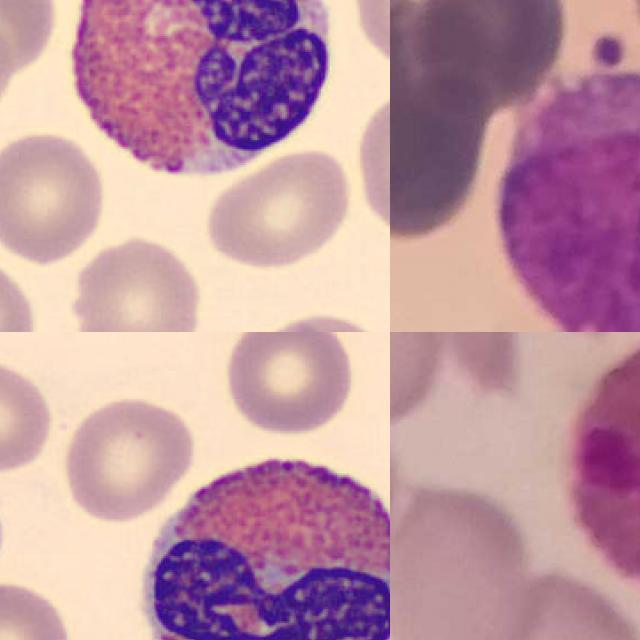Eosinophil: (50, 0, 351, 198), (123, 439, 390, 640), (567, 332, 640, 608)
Lymphocyte: (493, 71, 640, 332)
RBC: (200, 144, 357, 272), (58, 392, 200, 524), (0, 127, 107, 267), (221, 332, 358, 437), (63, 233, 207, 332), (0, 357, 58, 477), (351, 81, 390, 242), (0, 573, 74, 640), (237, 307, 390, 332), (0, 251, 40, 332)
